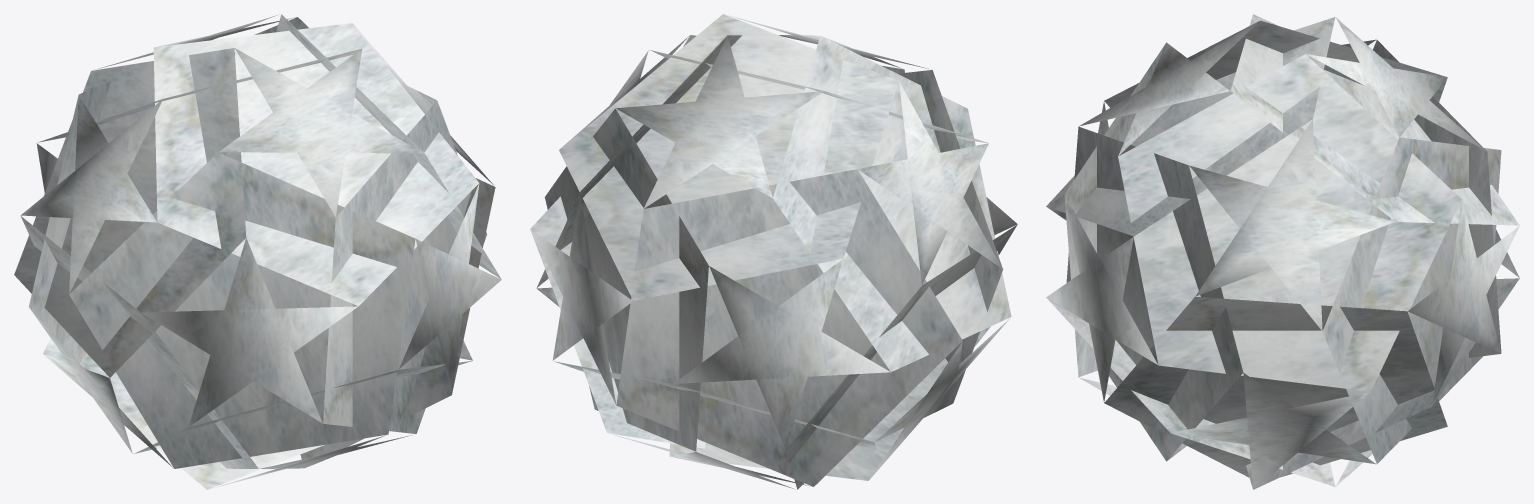
The model's file is SnubIcosidodecadodecahedronA.gltf.
3 renders of one model, left to right at view 1: azimuth 30°, elevation 25°; view 2: azimuth 150°, elevation 25°; view 3: azimuth 270°, elevation 25°, orthographic.
Visible parts, largest first — view 1: SnubIcosidodecadodecahedron; view 2: SnubIcosidodecadodecahedron; view 3: SnubIcosidodecadodecahedron.
Boxes of the visible parts, box(x1,y1,x2,y2) form: SnubIcosidodecadodecahedron: box(14, 14, 501, 489); SnubIcosidodecadodecahedron: box(530, 14, 1017, 489); SnubIcosidodecadodecahedron: box(1046, 14, 1519, 489).
Size of the model in its own units: 2.21 by 2.21 by 2.21.
1 material, 1 textured.
